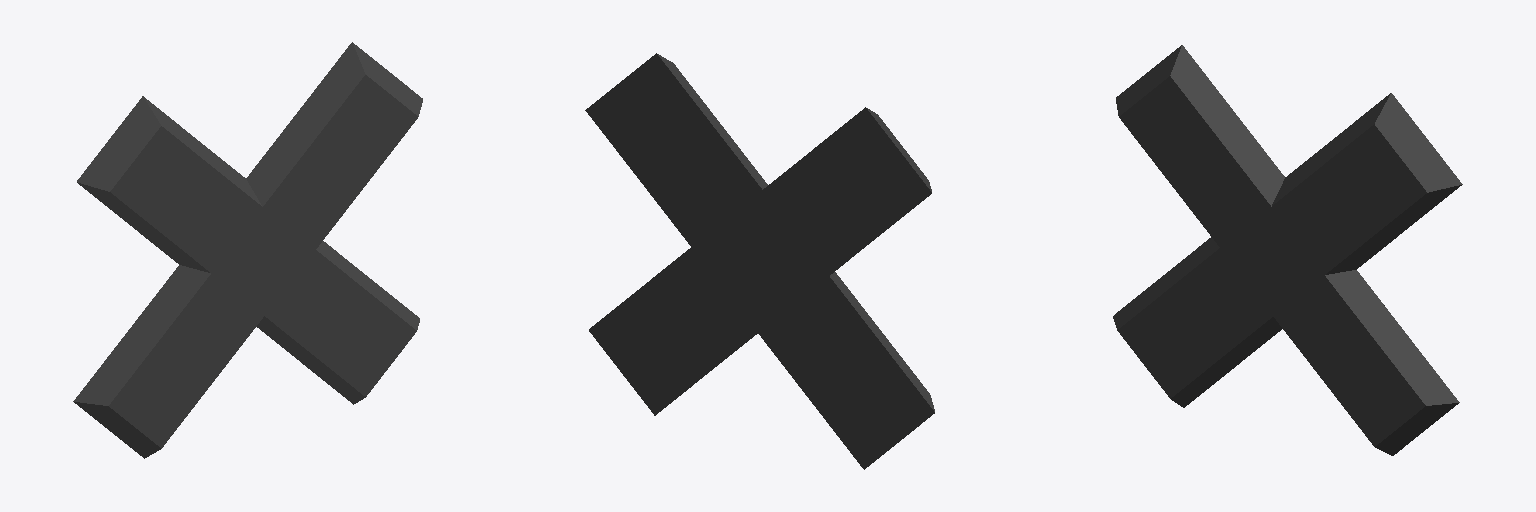
File: Details_X.obj
3 views of the same model, side by side, from view 1: azimuth 30°, elevation 25°; view 2: azimuth 150°, elevation 25°; view 3: azimuth 330°, elevation 25° (orthographic).
Visible parts, largest first — view 1: Details_X_Cube.061; view 2: Details_X_Cube.061; view 3: Details_X_Cube.061.
Part boxes in pixels (x1,y1,x2,y2): Details_X_Cube.061: (73, 42, 422, 458); Details_X_Cube.061: (585, 53, 934, 469); Details_X_Cube.061: (1113, 45, 1462, 455).
Bounding box in the file's own units: 0.3192 × 0.3192 × 0.0242.